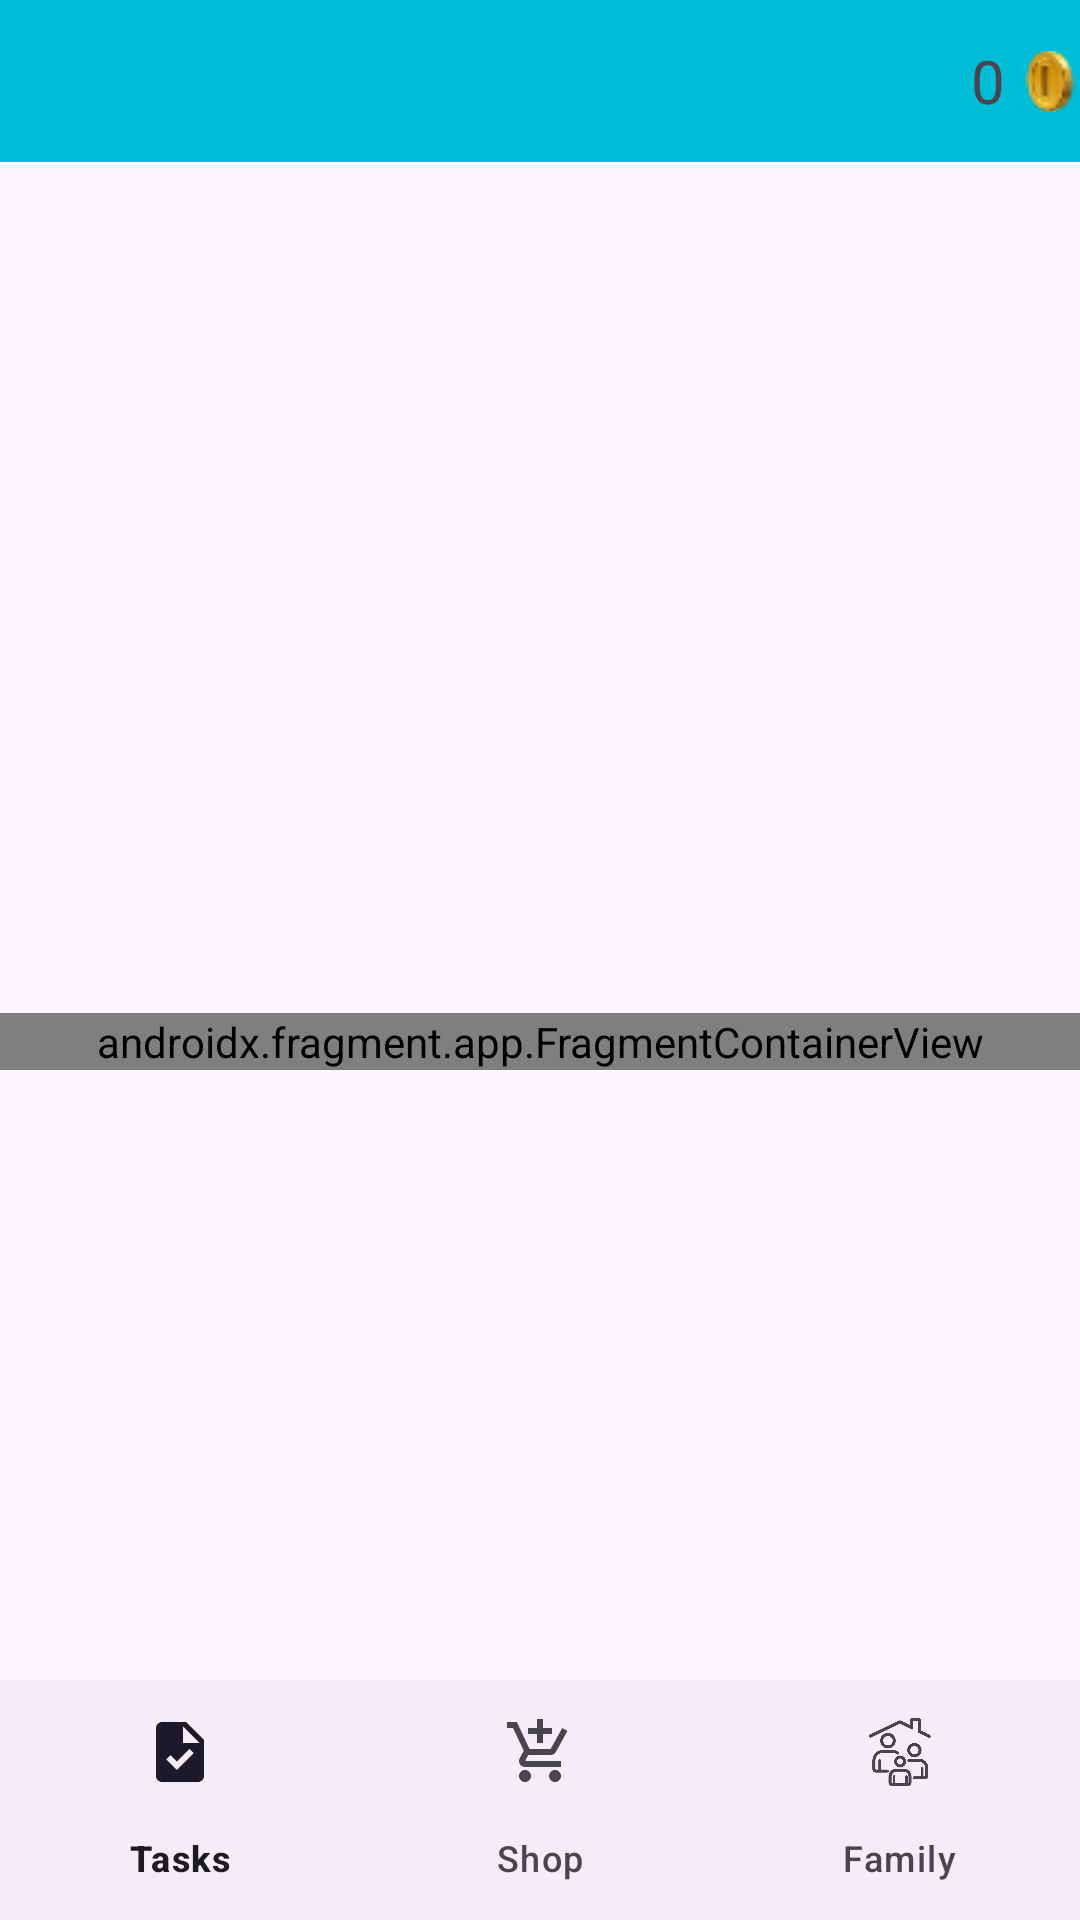

Where to tap for icons on this 1080px x 1920px app screen, as [x,y]:
coin: [1050,81]
